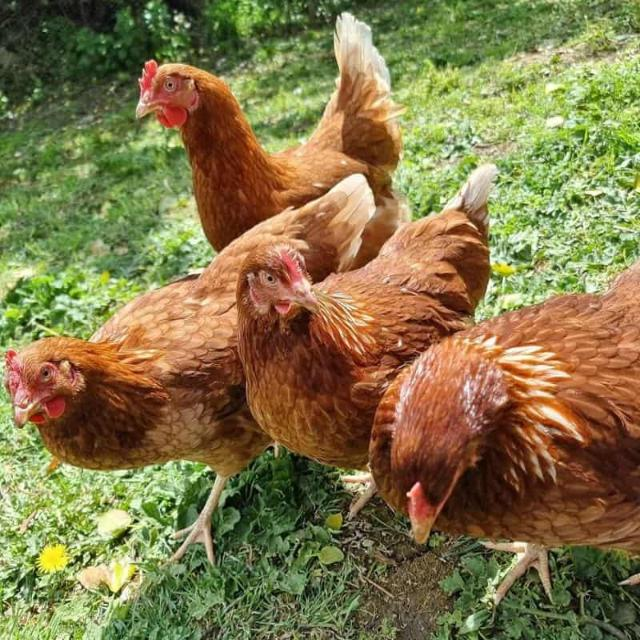Chicken: (2, 172, 375, 567), (366, 260, 640, 602), (234, 163, 497, 471), (133, 12, 413, 266)
